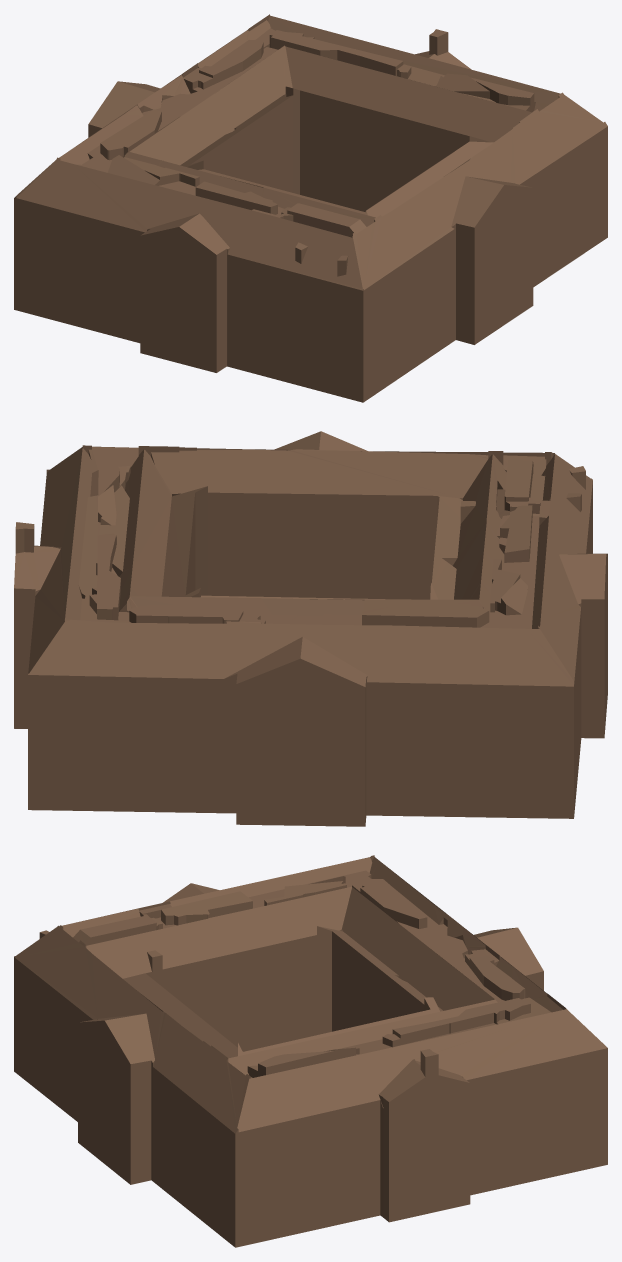
Rendered from Scheepvaartmuseum.fbx.
3 views of the same model, one above another, from view 1: azimuth 30°, elevation 25°; view 2: azimuth 150°, elevation 25°; view 3: azimuth 270°, elevation 25° (orthographic). The views are drawn at different scales.
Parts seen in each view (by area): view 1: NL.IMBAG.Pand.0363100012170236-100.003; view 2: NL.IMBAG.Pand.0363100012170236-100.003; view 3: NL.IMBAG.Pand.0363100012170236-100.003.
Part boxes in pixels (left/top/right/bottom): NL.IMBAG.Pand.0363100012170236-100.003: left=14, top=14, right=607, bottom=402; NL.IMBAG.Pand.0363100012170236-100.003: left=14, top=431, right=607, bottom=826; NL.IMBAG.Pand.0363100012170236-100.003: left=14, top=855, right=607, bottom=1247.
Size of the model in its own units: 84.23 by 23.8 by 81.5.
